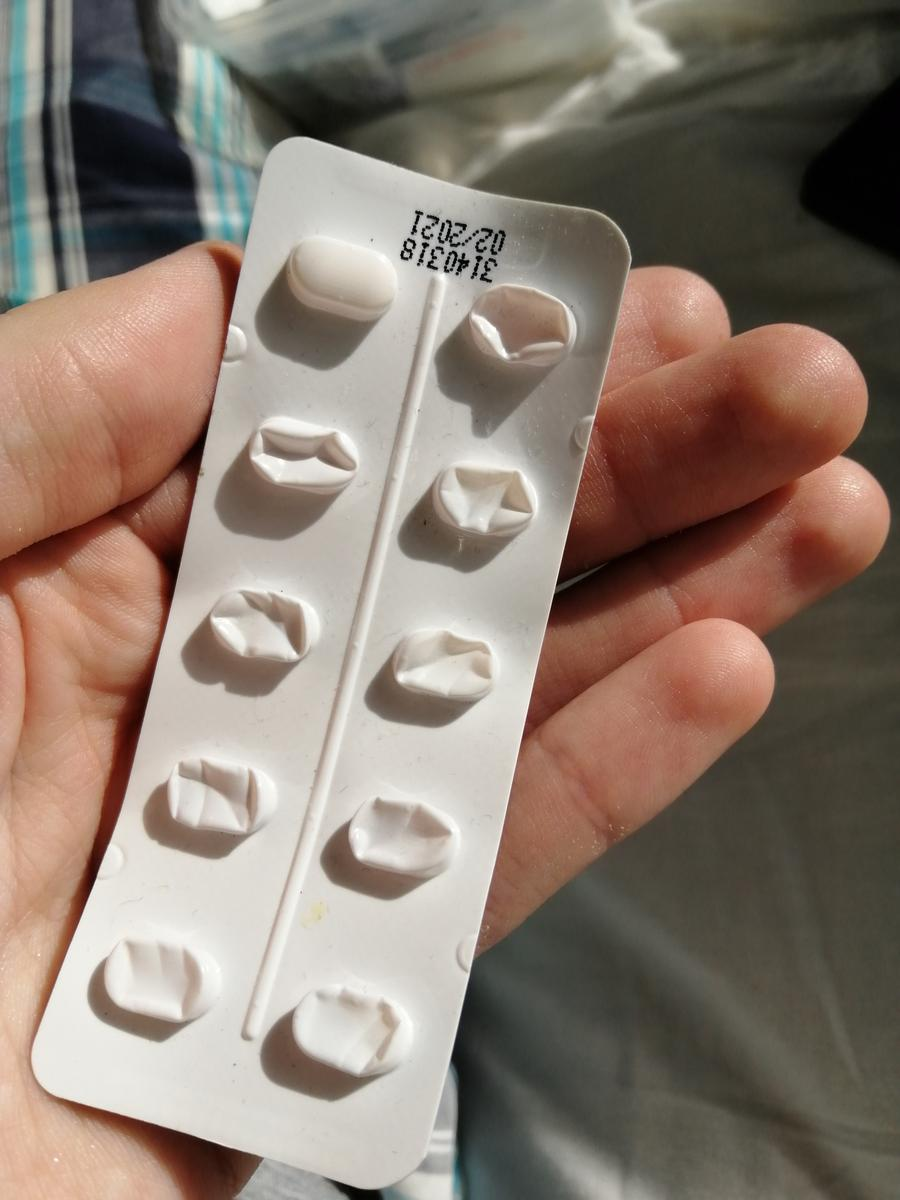tablet: (282, 232, 398, 324)
